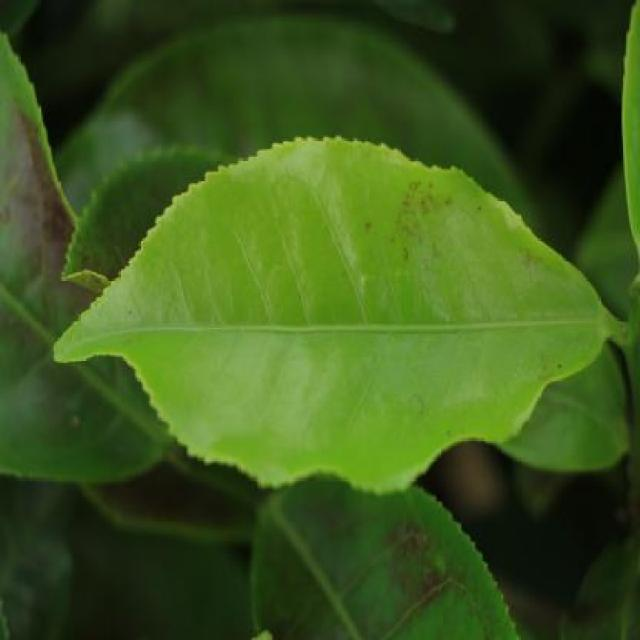Red Spider infested tea leaf: (311, 157, 594, 440), (1, 75, 150, 451)
